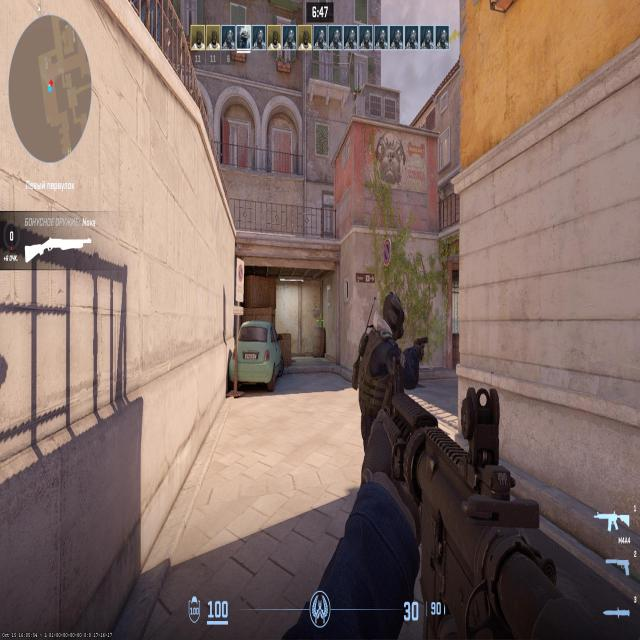CT: (358, 291, 407, 394)
CT_heat: (384, 296, 394, 340)
